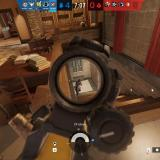Character: (74, 79, 82, 96), (80, 22, 89, 27)
Friend_label: (77, 14, 88, 22)
Head: (80, 22, 84, 27), (78, 79, 80, 82)
